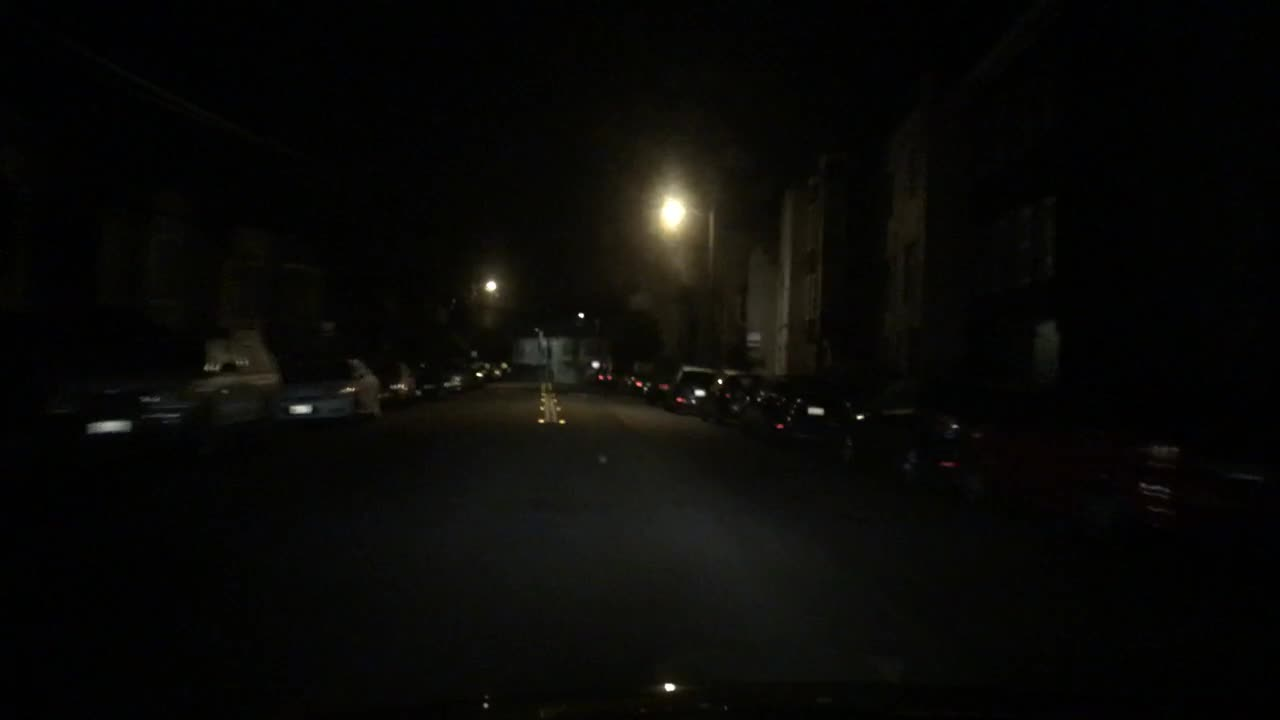car: (49, 322, 285, 446), (839, 402, 1008, 488), (276, 353, 390, 426), (760, 379, 872, 448), (710, 365, 776, 422), (414, 353, 489, 393), (666, 363, 720, 413), (374, 357, 417, 400), (471, 356, 520, 380), (647, 377, 671, 399), (631, 376, 658, 393), (594, 368, 617, 386), (614, 373, 638, 388)
traffic sign: (1034, 318, 1063, 372), (742, 327, 767, 352)
